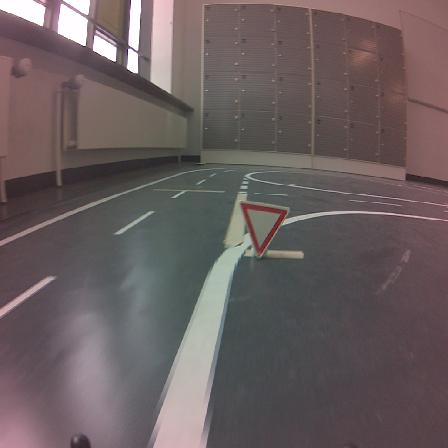GIVE_WAY: (240, 201, 288, 257)
